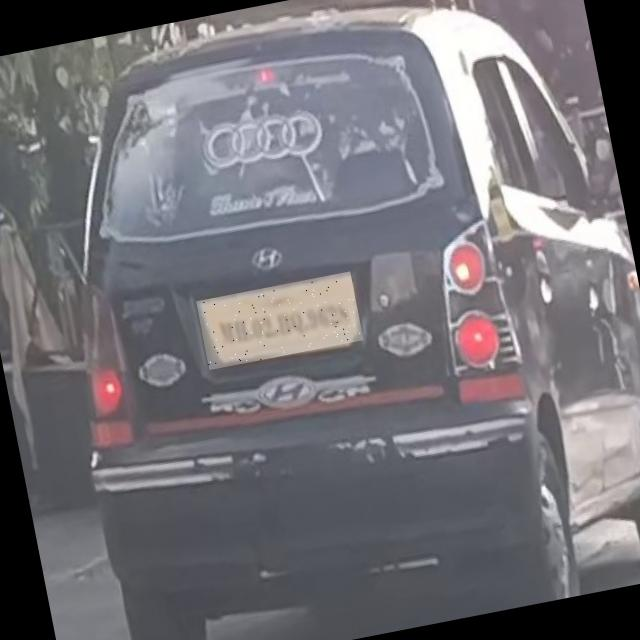Plate: (198, 272, 365, 371)
